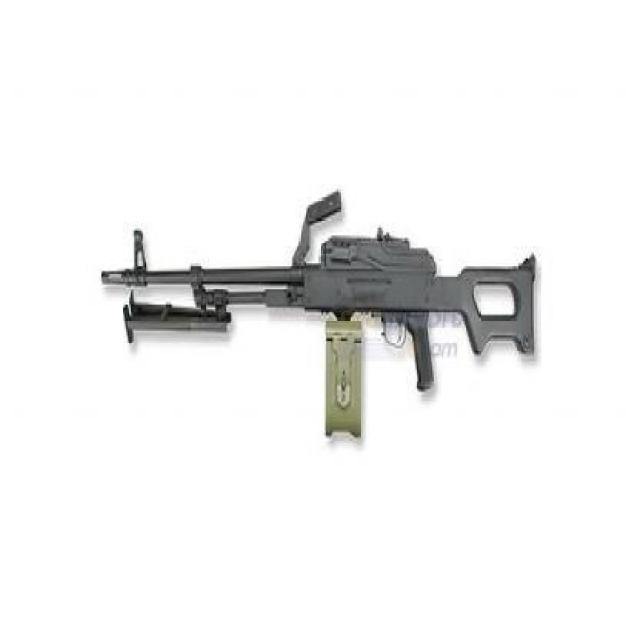weapon: (86, 174, 548, 476)
